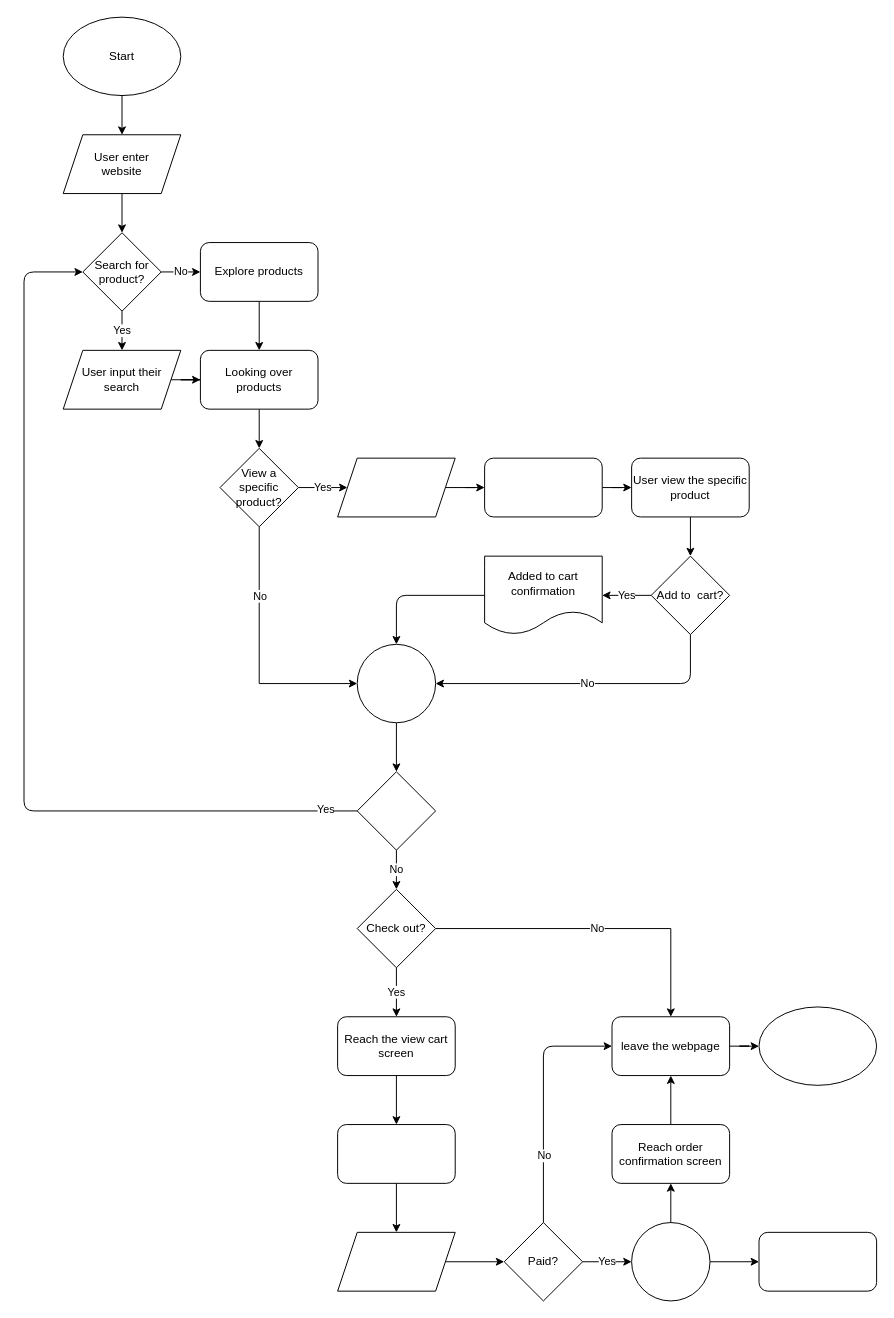
Some shapes in this 894 by 1318 pixel diagram are drawn without their labels. The shapes that lost their labels are listed below. From the top down, each one's box as (x1, y1, x2, y2) in pixels, then its label:
(337, 457, 455, 517): A specific product data
(484, 457, 602, 517): Reach the specific product webpage
(356, 771, 436, 850): Continue shopping?
(758, 1006, 877, 1085): End
(337, 1124, 455, 1183): Reach the view payment screen
(337, 1231, 455, 1291): User input their payment information
(758, 1231, 877, 1291): Send the email
